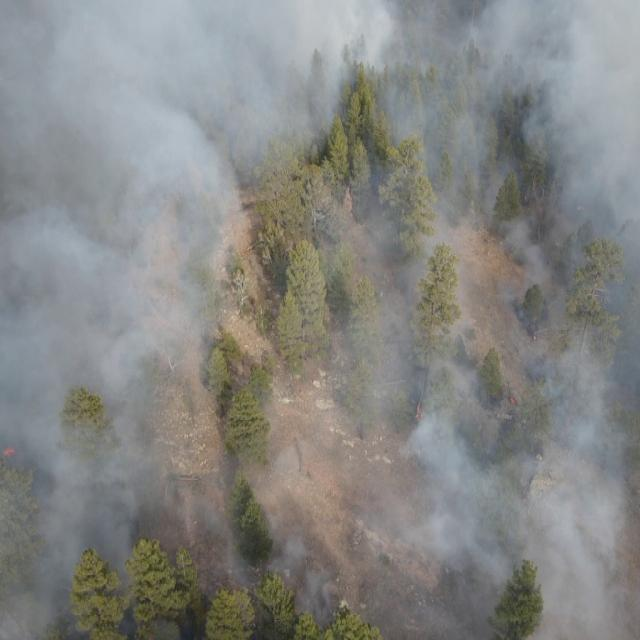fire: (408, 395, 430, 427), (500, 390, 526, 416), (4, 440, 16, 462)
smoke: (0, 1, 640, 519), (361, 520, 640, 640), (0, 521, 129, 640), (194, 520, 326, 588), (294, 568, 339, 621)
